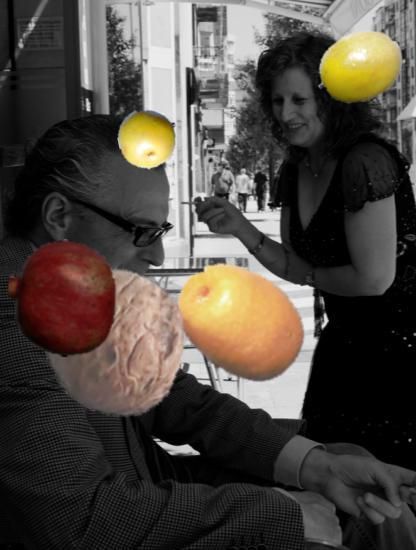Kumquats: (172, 252, 311, 391)
Maracuja: (315, 23, 405, 113), (118, 108, 179, 169)
Pomegranate: (3, 239, 121, 357)
Walnut: (47, 270, 193, 416)
